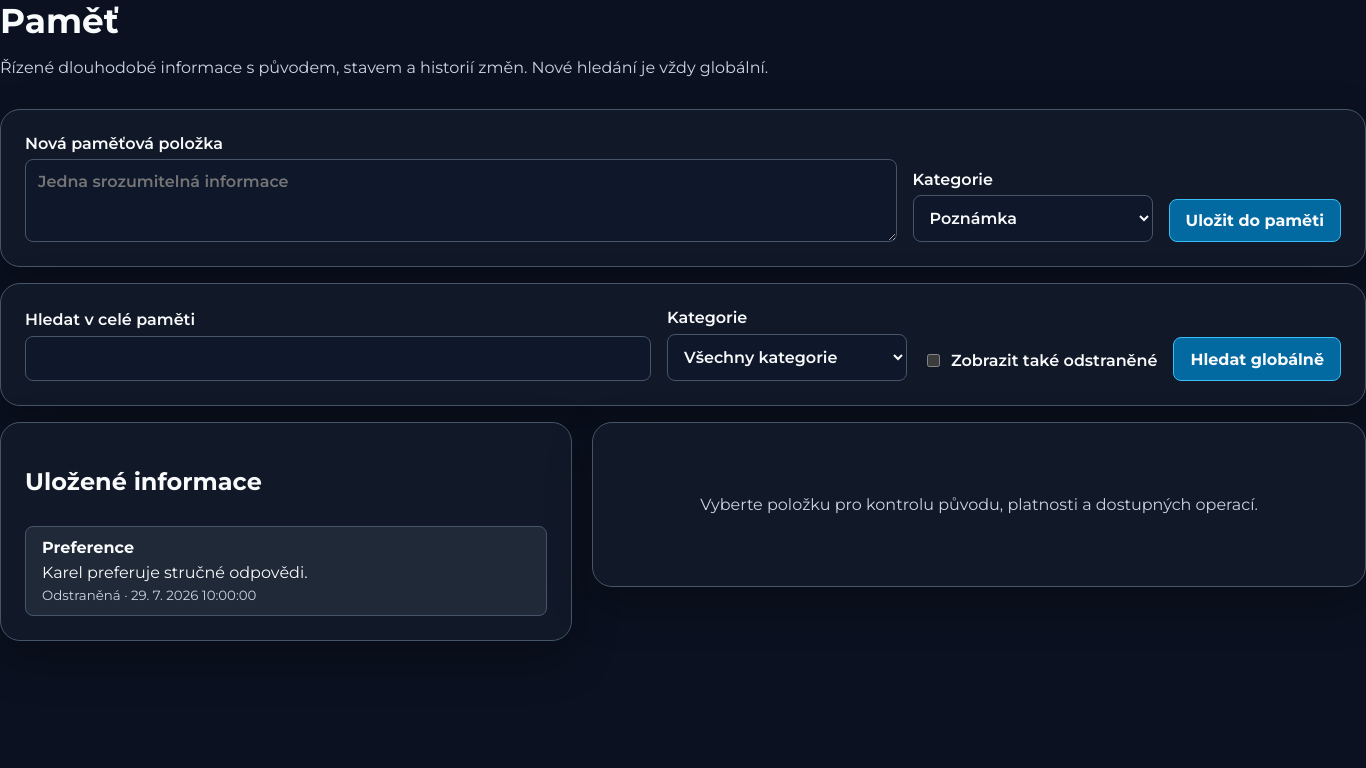
Scenario: authenticated management screens › shows feedback when restoring deleted memory fails
Click the button "Karel preferuje" at coordinates (286, 571), box [25,526,547,616]
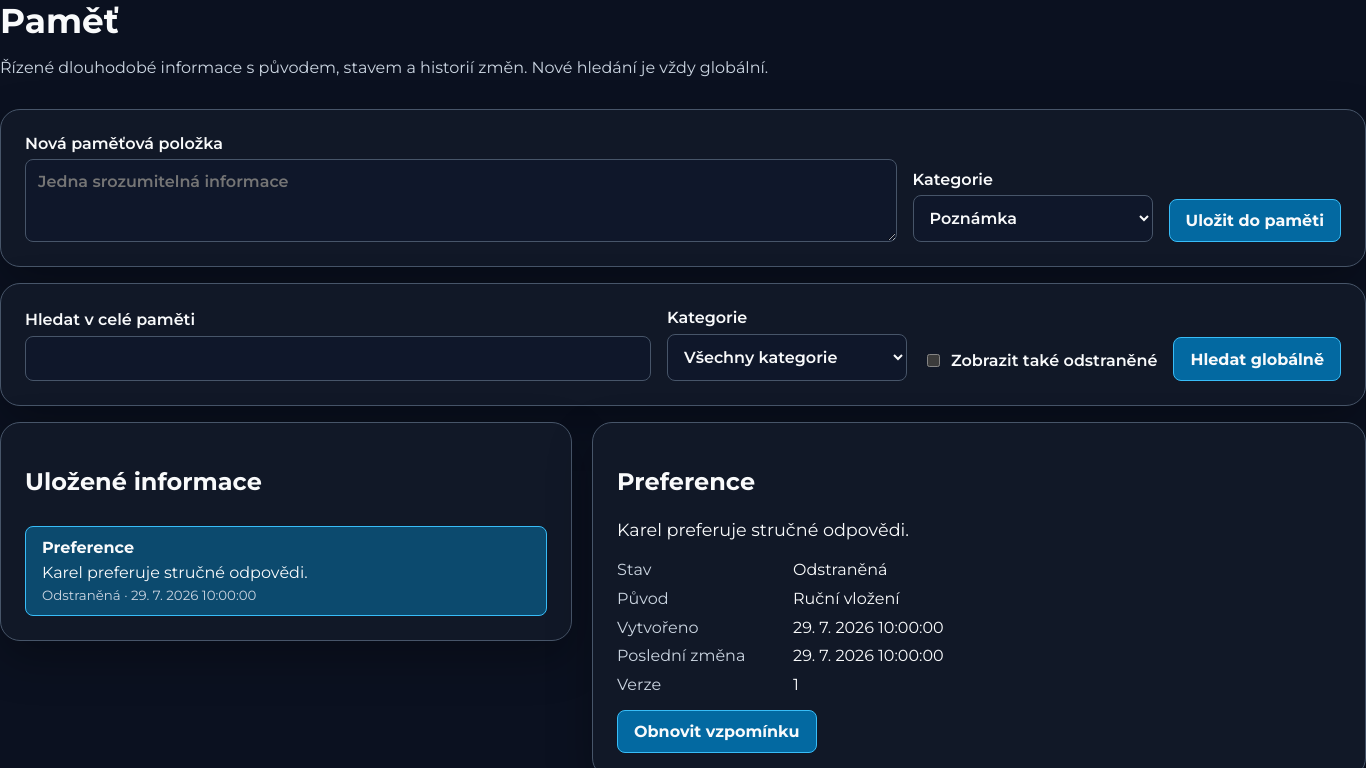
Click the button "Obnovit vzpomínku" at coordinates (717, 732), box [617,710,816,753]
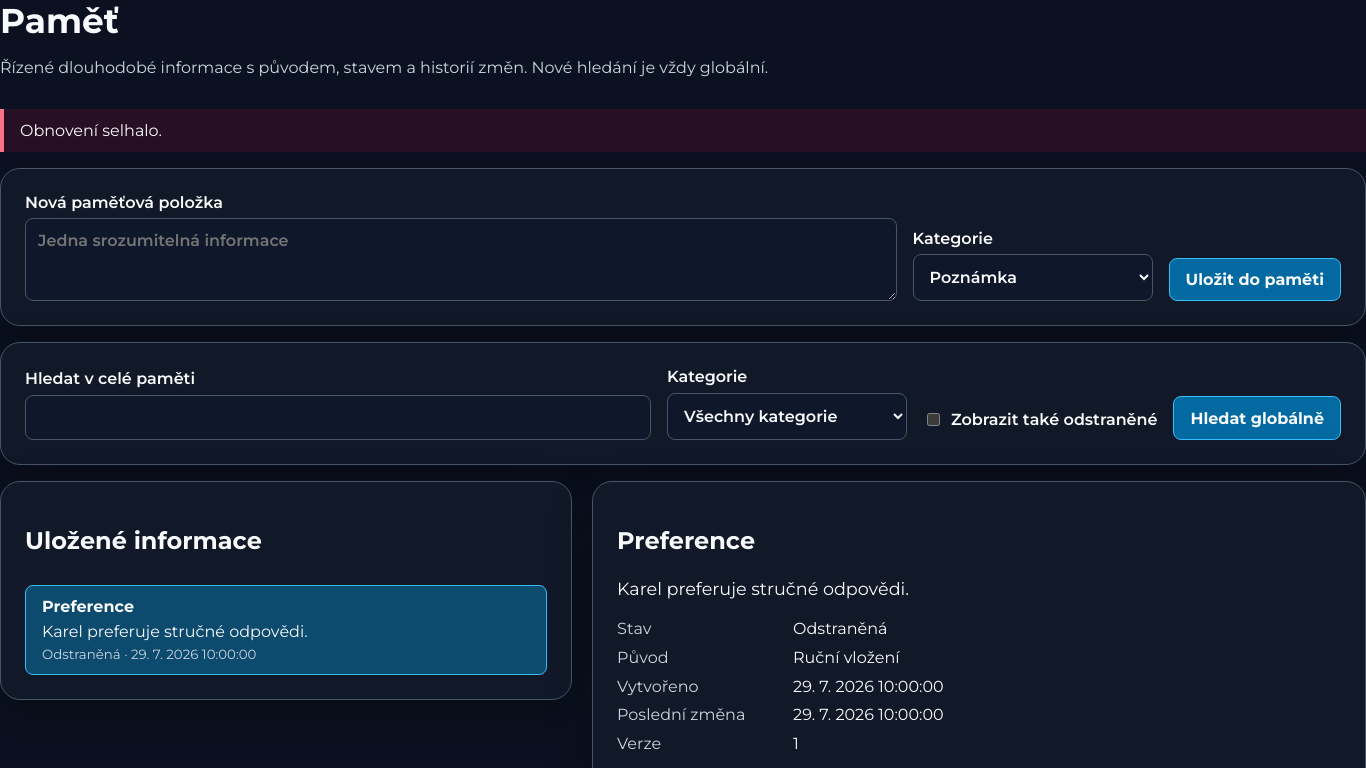
Expected: the message reads "Obnovení selhalo.", [20,121,162,140]
